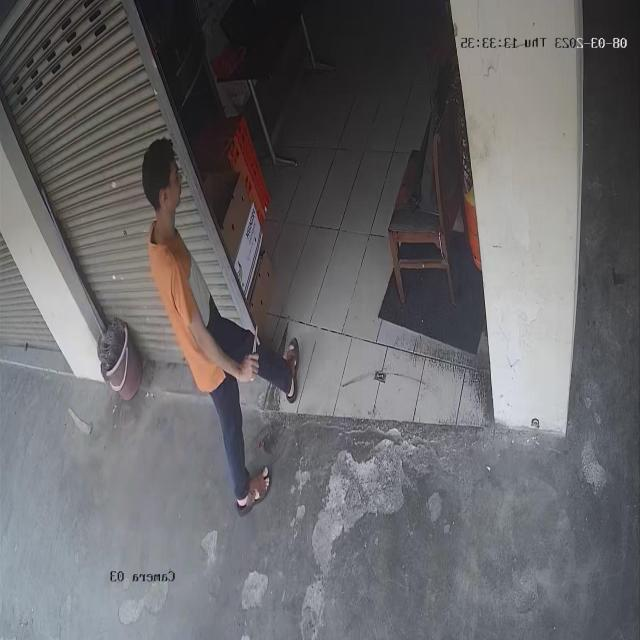Knife: (244, 324, 272, 384)
